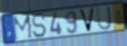4: (49, 11, 64, 37)
9: (65, 10, 79, 35)
M: (12, 13, 34, 42)
S: (30, 13, 47, 39)
U: (95, 5, 113, 32)
V: (78, 7, 96, 33)
